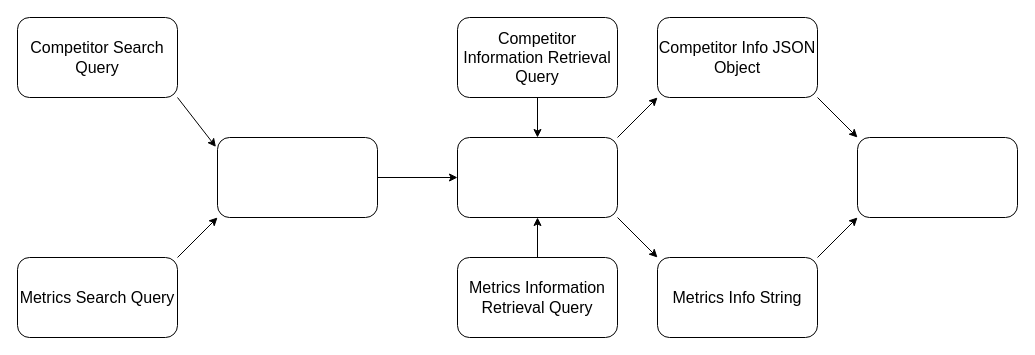
The diagram is 1035 pixels wide and 355 high, and some of its shapes have lost their labels. The centre of each missing label's shape, as x and y in pixels:
"Chroma - Vector DB" belongs at (x=537, y=177).
"LLM (GPT-4)" belongs at (x=937, y=177).
"SERP-API (Google Search Tool)" belongs at (x=297, y=177).
